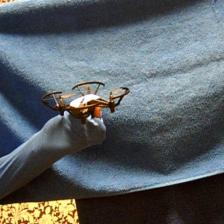drone: (42, 77, 130, 123)
